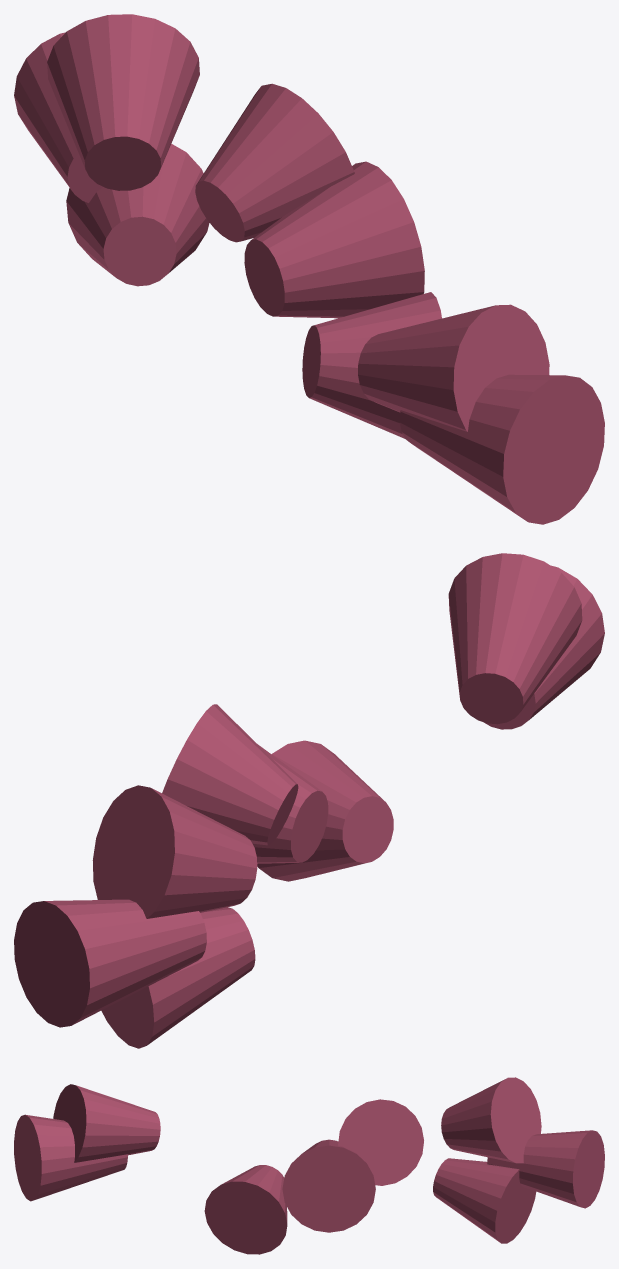
The model's file is medulla_pyramids.glb.
3 views of the same model, one above another, from view 1: azimuth 30°, elevation 25°; view 2: azimuth 150°, elevation 25°; view 3: azimuth 270°, elevation 25° (orthographic). The views are drawn at different scales.
Visible parts, largest first — view 1: geometry_0; view 2: geometry_0; view 3: geometry_0.
Boxes of the visible parts, box(x1,y1,x2,y2) form: geometry_0: box(14, 14, 604, 524); geometry_0: box(14, 553, 604, 1048); geometry_0: box(14, 1077, 604, 1254).
Bounding box in the file's own units: 12.08 × 16.57 × 56.88.
